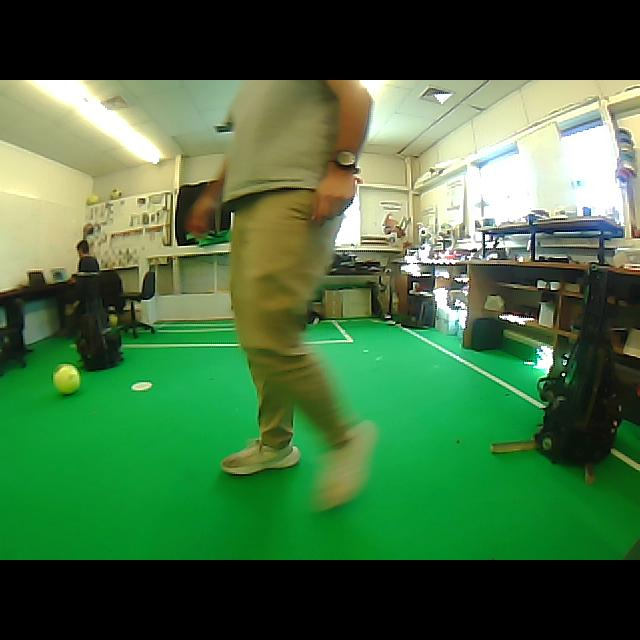ball: (53, 364, 80, 394), (86, 194, 100, 204), (109, 314, 120, 326), (110, 189, 121, 199)
robot: (535, 266, 621, 464), (78, 298, 122, 370)
